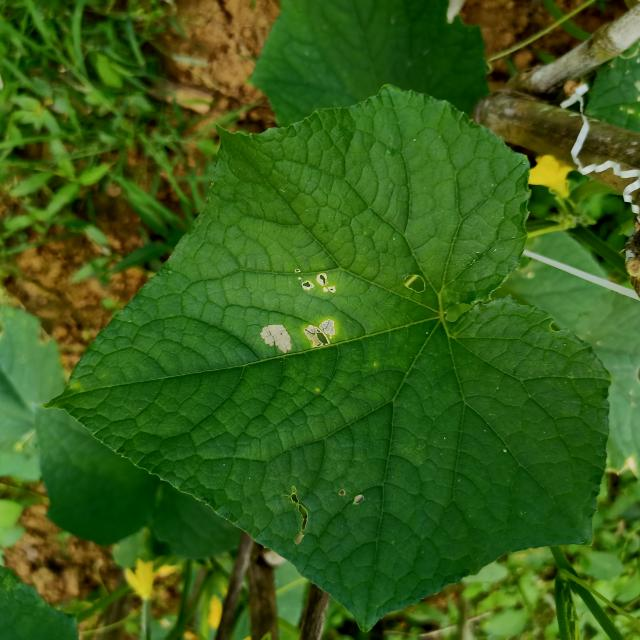disease_cucumber: (256, 266, 342, 358)
